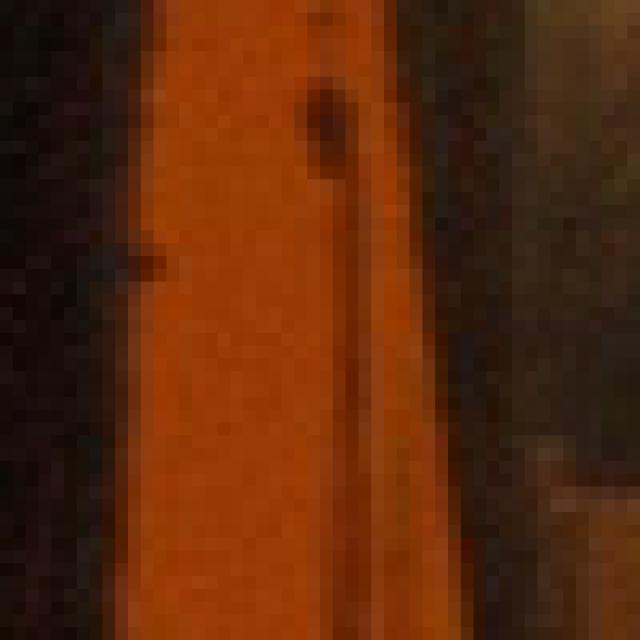no_fire: (43, 33, 626, 640)
